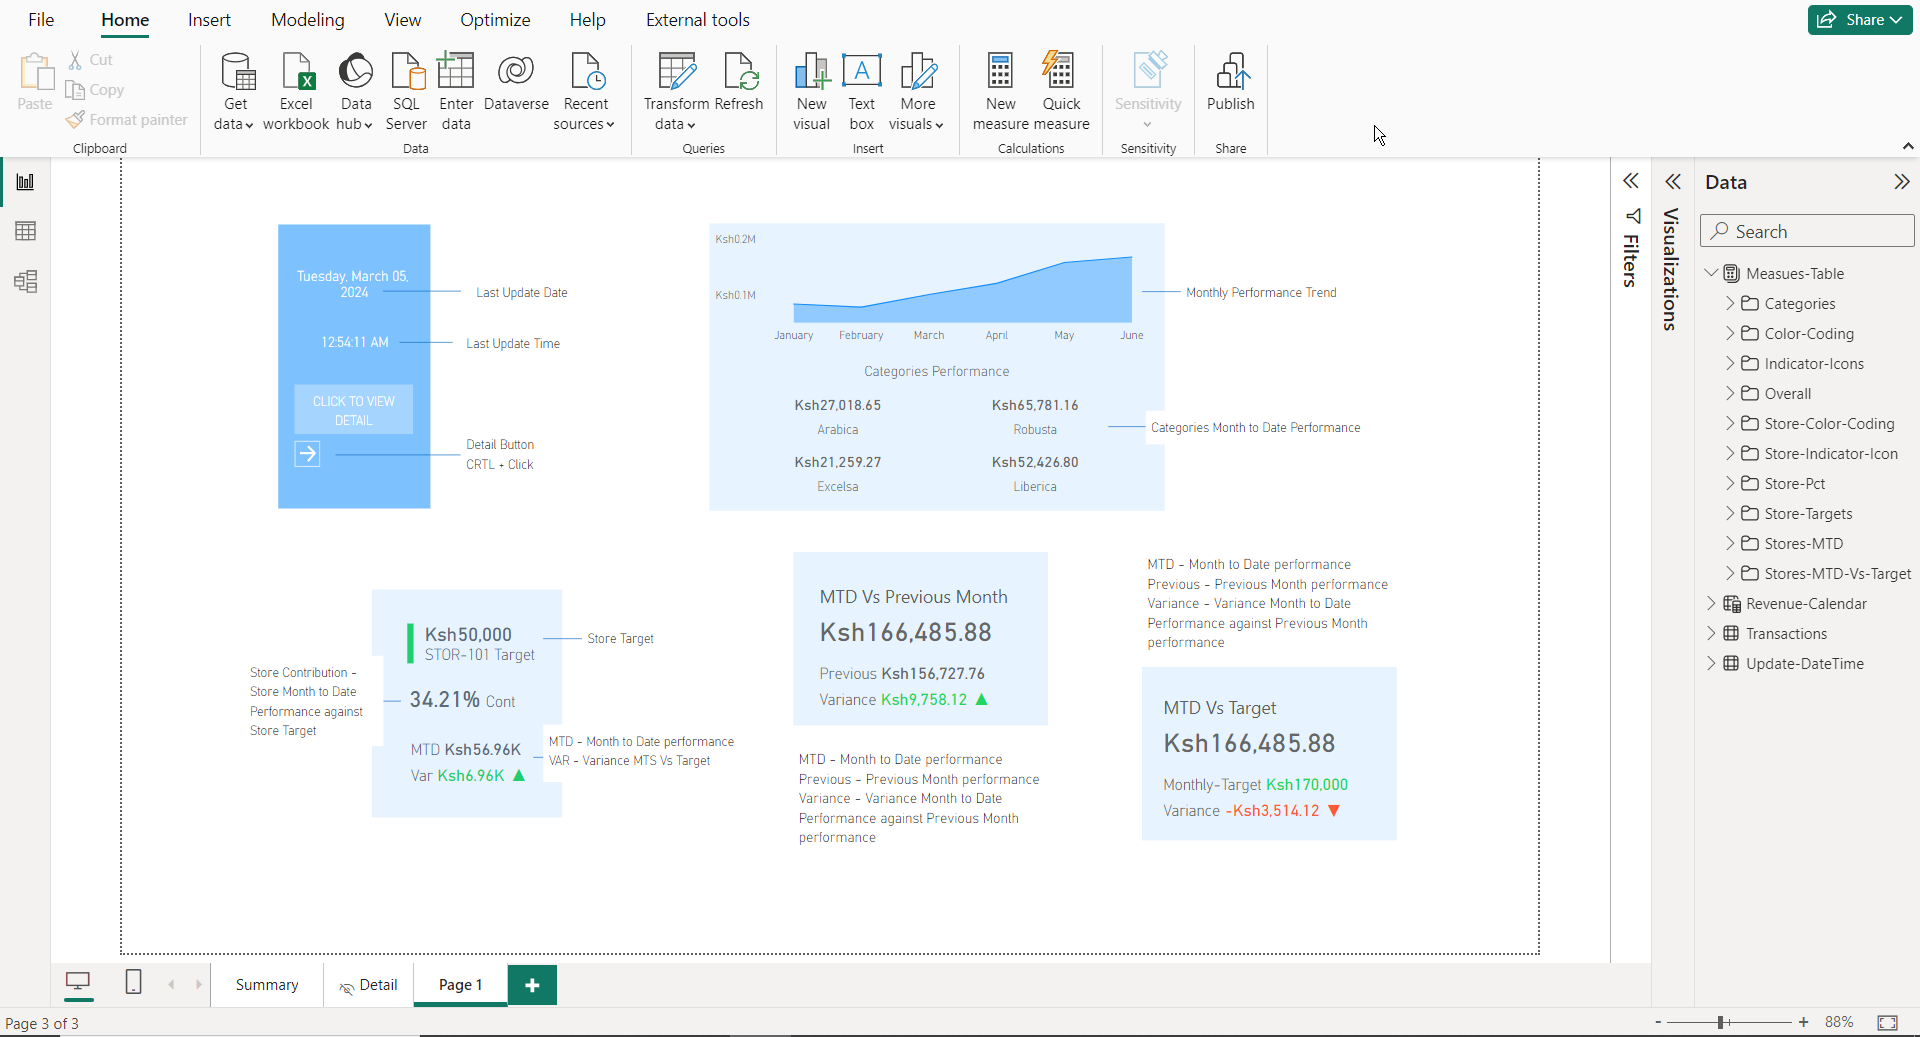

What the dashboard file says about the page in this screenshot:
{"tool":"powerbi","page":{"name":"Summary","canvas":[1280,720],"ordinal":0},"visuals":[{"type":"textbox","box":[40.6,179.9,489.5,70.9],"z":0,"group":"g1"},{"type":"shape","box":[40.8,264.2,205.8,377.4],"z":1000,"group":"g2"},{"type":"shape","box":[282.5,435.7,529.1,205.8],"z":1000,"group":"g1"},{"type":"shape","box":[283,260.5,251,160.5],"z":2000,"group":"g1"},{"type":"shape","box":[828.7,259.5,411.7,381.5],"z":3000,"group":"g1"},{"type":"textbox","box":[57.8,508.3,166.3,33.5],"z":3000,"group":"g2"},{"type":"multiRowCard","fields":{"Values":["Measues-Table.Store2-Target"]},"box":[489.7,461.3,148.6,49.9],"z":4000,"group":"g1"},{"type":"actionButton","box":[62.7,550.8,34.9,34.9],"z":4000,"group":"g2"},{"type":"multiRowCard","fields":{"Values":["Measues-Table.Store3-Target"]},"box":[647.8,461.3,153.3,49.9],"z":5000,"group":"g1"},{"type":"cardVisual","fields":{"Data":["Measues-Table.MTD-Revenue"]},"box":[290.6,272.9,243,145.3],"z":6000,"group":"g1"},{"type":"multiRowCard","title":"sfdf","fields":{"Values":["Measues-Table.Store-Target"]},"box":[310.9,461.9,153.5,48.8],"z":7000,"group":"g1"},{"type":"shape","box":[560.8,260.6,251,160.5],"z":8000,"group":"g1"},{"type":"card","fields":{"Values":["Measues-Table.Coffee"]},"box":[1034.6,474.5,178,74.1],"z":9000,"group":"g1"},{"type":"cardVisual","fields":{"Data":["Measues-Table.MTD-Revenue"]},"box":[563.6,268.4,242.9,145.5],"z":10000,"group":"g1"},{"type":"areaChart","fields":{"Y":["Measues-Table.MTD-Revenue"],"Category":["Revenue-Calendar.Date.Variation.Date Hierarchy.Month"]},"box":[828.7,259.5,411.7,170.2],"z":11000,"group":"g1"},{"type":"card","fields":{"Values":["Measues-Table.Coffee-Beans"]},"box":[856.2,474.5,178.4,74.1],"z":12000,"group":"g1"},{"type":"card","fields":{"Values":["Measues-Table.Bakery"]},"box":[856.2,550.4,178.4,74.1],"z":13000,"group":"g1"},{"type":"card","fields":{"Values":["Measues-Table.Branded"]},"box":[1034.6,550.4,178,74.1],"z":14000,"group":"g1"},{"type":"slicer","fields":{"Values":["Revenue-Calendar.Date.Variation.Date Hierarchy.Year"]},"box":[561.1,166.2,245.6,68.6],"z":15000,"group":"g1"},{"type":"slicer","fields":{"Values":["Transactions.store_location"]},"box":[828.7,166.2,411.7,68.6],"z":16000,"group":"g1"},{"type":"cardVisual","fields":{"Data":["Measues-Table.MTD-Store3"]},"box":[638.3,525.5,172.4,89.2],"z":17000,"group":"g1"},{"type":"card","fields":{"Values":["Min(Query1.Date)"]},"box":[53.4,300.8,182.6,88.4],"z":18000,"group":"g2"},{"type":"cardVisual","fields":{"Data":["Measues-Table.MTD-Store1"]},"box":[301.9,530.8,153,84],"z":18000,"group":"g1"},{"type":"card","fields":{"Values":["Min(Query1.Time)"]},"box":[41.1,377.8,207.2,89.2],"z":19000,"group":"g2"},{"type":"cardVisual","fields":{"Data":["Measues-Table.MTD-Store2"]},"box":[482.9,530.8,163,84],"z":19000,"group":"g1"},{"type":"textbox","box":[900.1,440.8,269,38.4],"z":20000,"group":"g1"},{"type":"group","id":"g1","title":"Group 2","box":[40.6,166.2,1199.8,475.4],"z":20001},{"type":"cardVisual","fields":{"Data":["Measues-Table.Store3-Pct"]},"box":[647.2,492.9,135,69],"z":21000,"group":"g1"},{"type":"cardVisual","fields":{"Data":["Measues-Table.STOR-102-Pct"]},"box":[489.9,493.8,135,69],"z":22000,"group":"g1"},{"type":"cardVisual","fields":{"Data":["Measues-Table.STOR-101-Pct"]},"box":[306.9,492.8,123,69],"z":23000,"group":"g1"},{"type":"group","id":"g2","title":"Group 1","box":[40.8,264.2,207.5,377.4],"z":24000,"group":"g1"}]}

Visuals, with their boxes on the page's 1280x720 design canvas (x1, y1, x2, y2). These are canvas units, not pixel positions in the 1920x1037 screenshot, which may show the page scaled, cropped or inside an application window:
textbox: <bbox>41, 180, 530, 251</bbox>
shape: <bbox>41, 264, 247, 642</bbox>
shape: <bbox>282, 436, 812, 642</bbox>
shape: <bbox>283, 260, 534, 421</bbox>
shape: <bbox>829, 260, 1240, 641</bbox>
textbox: <bbox>58, 508, 224, 542</bbox>
multiRowCard - Measues-Table.Store2-Target: <bbox>490, 461, 638, 511</bbox>
actionButton: <bbox>63, 551, 98, 586</bbox>
multiRowCard - Measues-Table.Store3-Target: <bbox>648, 461, 801, 511</bbox>
cardVisual - Measues-Table.MTD-Revenue: <bbox>291, 273, 534, 418</bbox>
"sfdf" multiRowCard: <bbox>311, 462, 464, 511</bbox>
shape: <bbox>561, 261, 812, 421</bbox>
card - Measues-Table.Coffee: <bbox>1035, 474, 1213, 549</bbox>
cardVisual - Measues-Table.MTD-Revenue: <bbox>564, 268, 806, 414</bbox>
areaChart - Measues-Table.MTD-Revenue x Revenue-Calendar.Date.Variation.Date Hierarchy.Month: <bbox>829, 260, 1240, 430</bbox>
card - Measues-Table.Coffee-Beans: <bbox>856, 474, 1035, 549</bbox>
card - Measues-Table.Bakery: <bbox>856, 550, 1035, 624</bbox>
card - Measues-Table.Branded: <bbox>1035, 550, 1213, 624</bbox>
slicer - Revenue-Calendar.Date.Variation.Date Hierarchy.Year: <bbox>561, 166, 807, 235</bbox>
slicer - Transactions.store_location: <bbox>829, 166, 1240, 235</bbox>
cardVisual - Measues-Table.MTD-Store3: <bbox>638, 526, 811, 615</bbox>
card - Min(Query1.Date): <bbox>53, 301, 236, 389</bbox>
cardVisual - Measues-Table.MTD-Store1: <bbox>302, 531, 455, 615</bbox>
card - Min(Query1.Time): <bbox>41, 378, 248, 467</bbox>
cardVisual - Measues-Table.MTD-Store2: <bbox>483, 531, 646, 615</bbox>
textbox: <bbox>900, 441, 1169, 479</bbox>
"Group 2" group: <bbox>41, 166, 1240, 642</bbox>
cardVisual - Measues-Table.Store3-Pct: <bbox>647, 493, 782, 562</bbox>
cardVisual - Measues-Table.STOR-102-Pct: <bbox>490, 494, 625, 563</bbox>
cardVisual - Measues-Table.STOR-101-Pct: <bbox>307, 493, 430, 562</bbox>
"Group 1" group: <bbox>41, 264, 248, 642</bbox>
